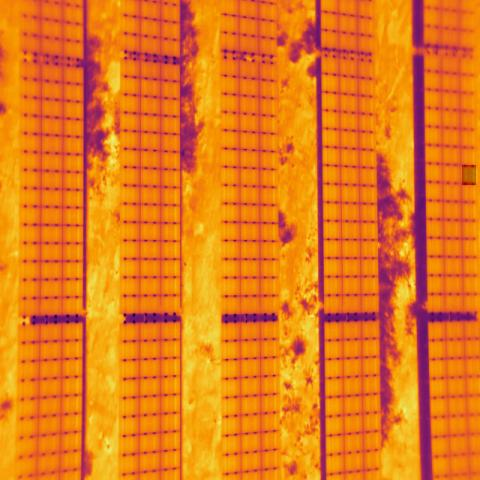fault: (462, 165, 476, 185)
